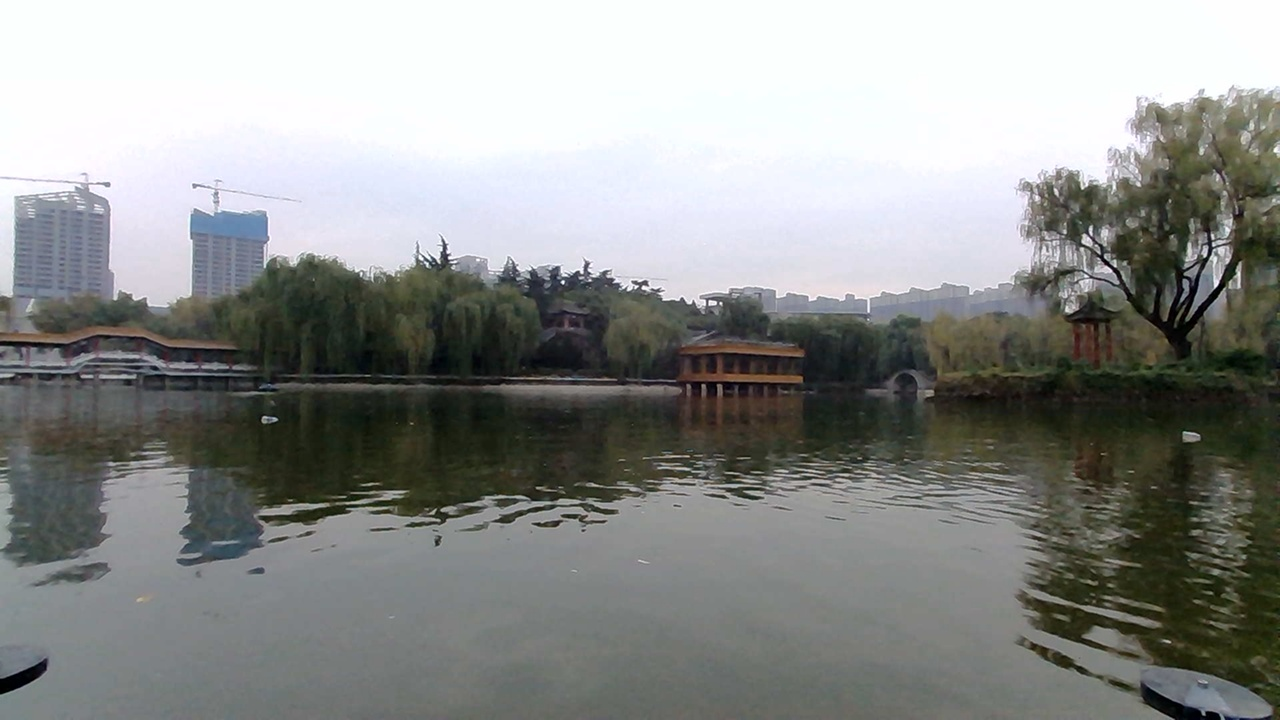bottle: (1167, 415, 1213, 449), (247, 405, 292, 429)
